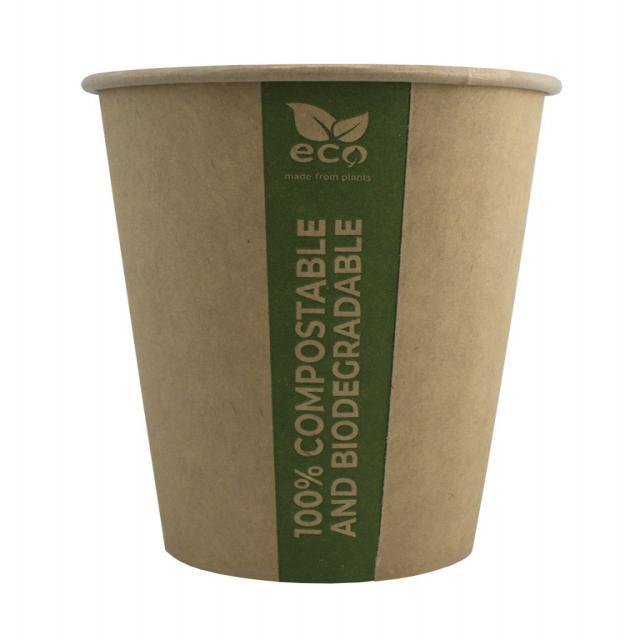trash: (80, 61, 564, 584)
